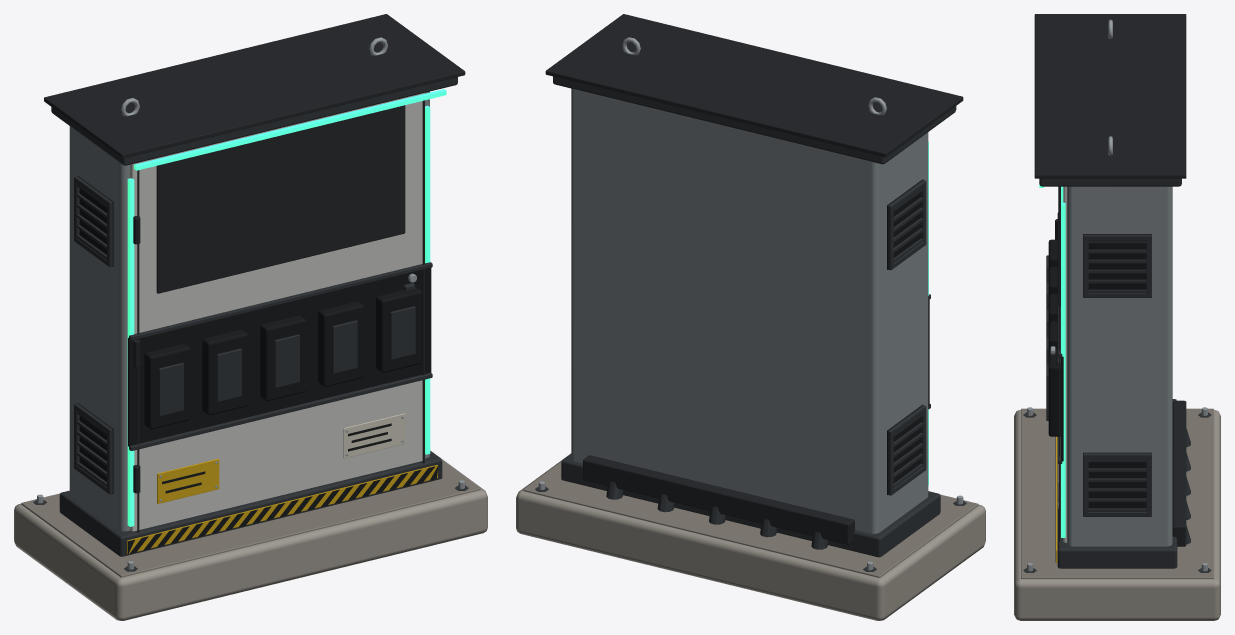
Rendered from py_panel.glb.
3 renders of one model, left to right at view 1: azimuth 30°, elevation 25°; view 2: azimuth 150°, elevation 25°; view 3: azimuth 270°, elevation 25°, orthographic. The views are drawn at different scales.
Parts seen in each view (by area): view 1: block.008, block.014, block.007, block.001, block.005, block.015, block.002, block.003, block.006, block.004, block.024, block.026 (+19 smaller); view 2: block.005, block.007, block.001, block.002, block, block.003, block.006, block.035, block.046; view 3: block.005, block.007, block.002, block.001, block.003, block.057, block, block.068, led.002, block.006, block.026, block.008 (+11 smaller).
Part boxes in pixels (x1,y1,x2,y2): block.008: (130,92,424,531); block.014: (156,105,405,293); block.007: (44,14,465,158); block.001: (14,450,487,620); block.005: (69,91,429,531); block.015: (128,268,431,446); block.002: (21,460,480,577); block.003: (59,451,442,556); block.006: (51,77,457,165); block.004: (127,465,437,553); block.024: (318,301,364,386); block.026: (376,287,422,372); block.005: (571,88,928,533); block.007: (545,14,963,157); block.001: (516,453,985,620); block.002: (523,461,978,577); block: (583,455,854,544); block.003: (561,454,940,557); block.006: (553,76,956,164); block.035: (887,404,923,494); block.046: (887,179,923,269); block.005: (1067,186,1172,546); block.007: (1034,14,1186,178); block.002: (1021,408,1213,578); block.001: (1014,410,1220,620); block.003: (1057,399,1177,568); block.057: (1083,452,1151,508); block: (1172,400,1186,546); block.068: (1083,234,1151,289); led.002: (1061,202,1065,537); block.006: (1039,178,1181,186); block.026: (1048,348,1060,436); block.008: (1063,186,1066,542).
Size of the model in its own units: 1.8 by 2.19 by 0.9.
